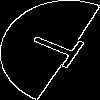T: (25, 25, 96, 73)
